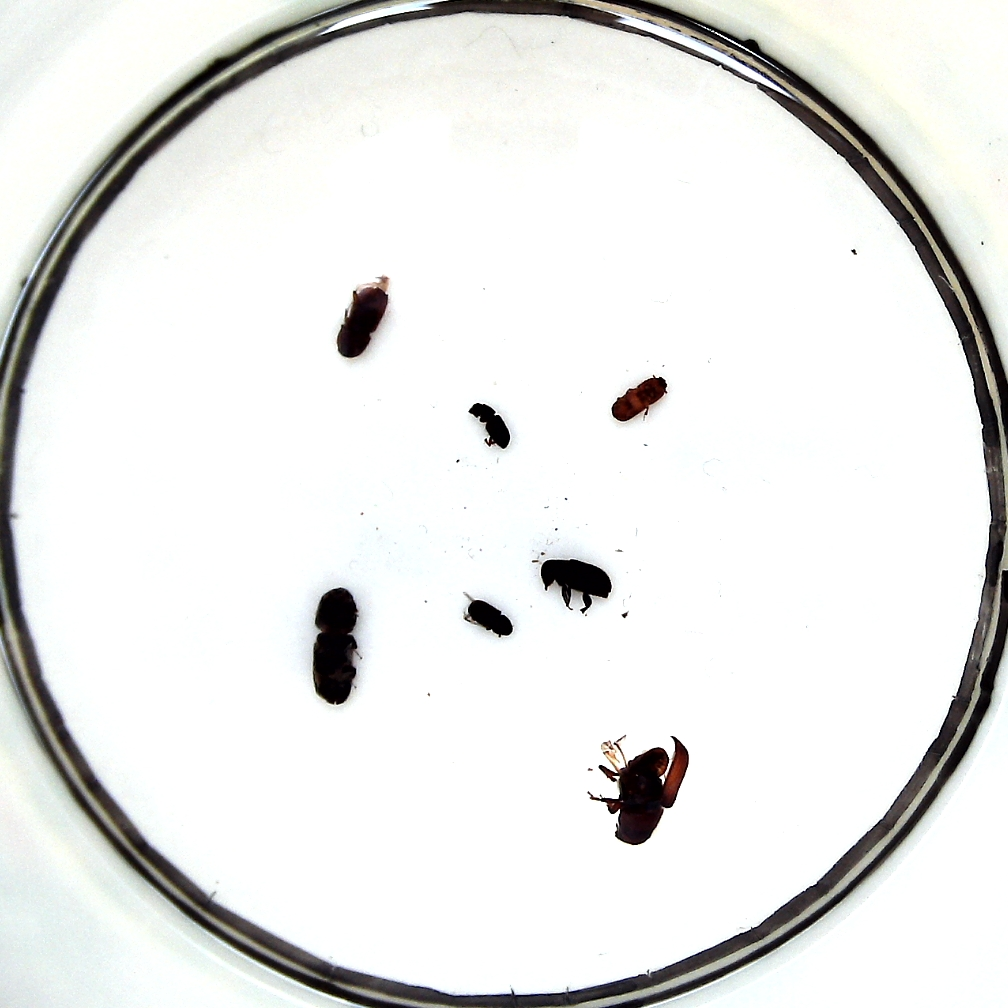Boerner: (312, 587, 363, 708)
Leconte: (594, 734, 688, 846)
Linnaeus: (337, 276, 390, 358)
acuminatus: (612, 376, 669, 422)
armandi: (540, 557, 612, 611)
coleoptera: (467, 597, 515, 639), (470, 402, 512, 449)
